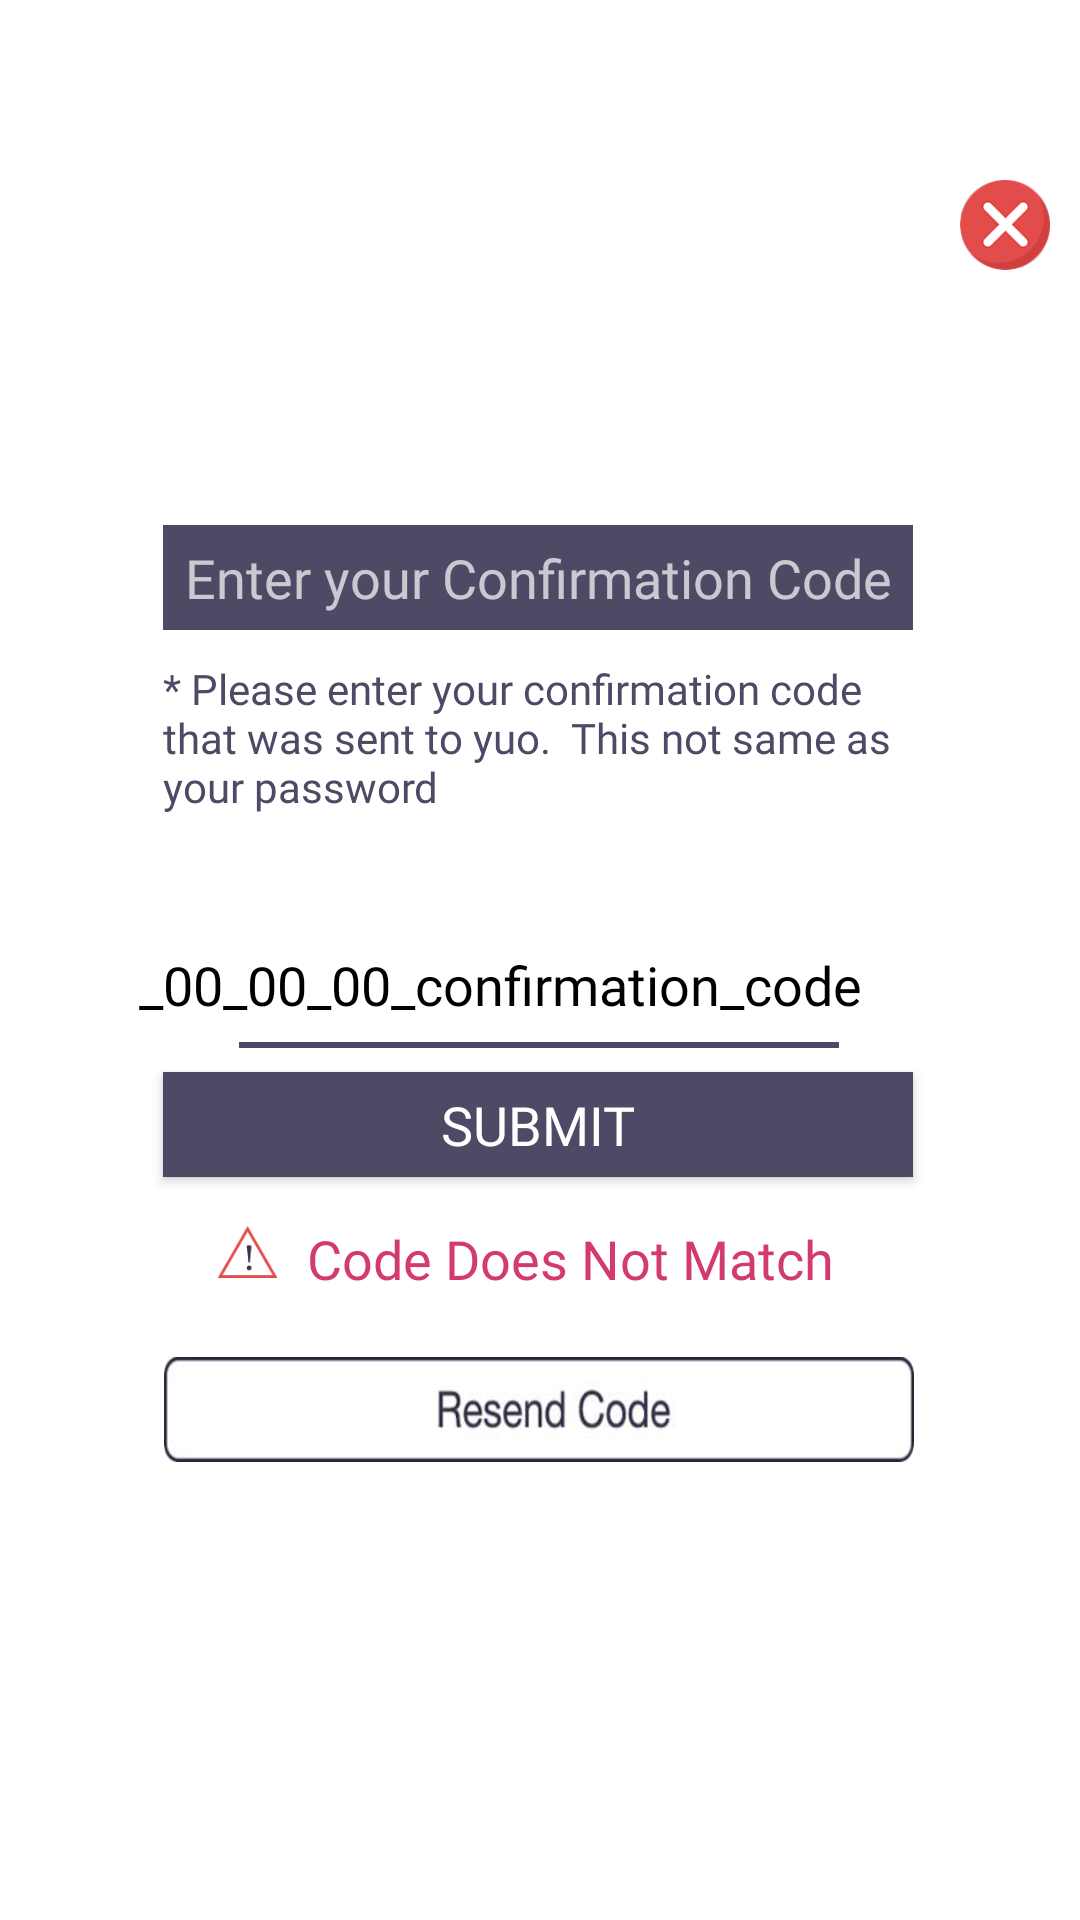

Named icons in this screenshot (1080w x 1920h) and their centers, [x,y]:
crossicon: [1005,225]
